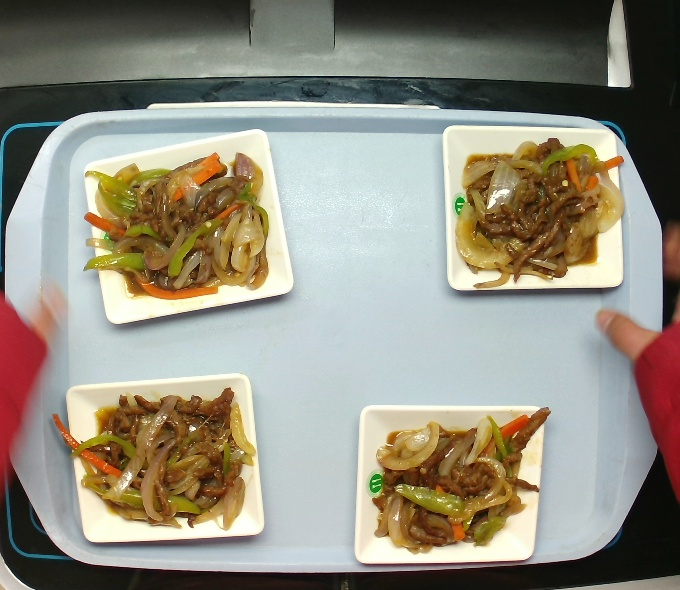wcq-NiuYangCongNiuLiu: (64, 373, 259, 540), (76, 148, 274, 297), (446, 139, 618, 285), (373, 409, 539, 550)
